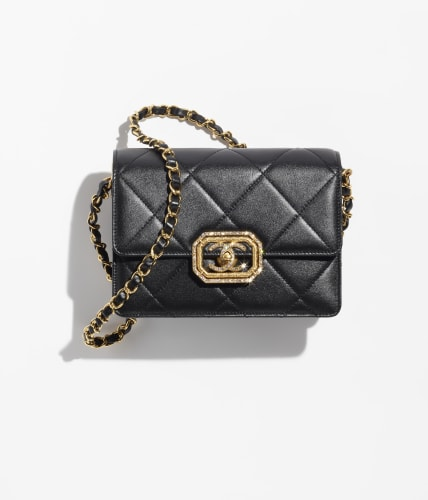channel: (104, 127, 357, 325), (136, 156, 181, 279), (188, 232, 257, 286)
